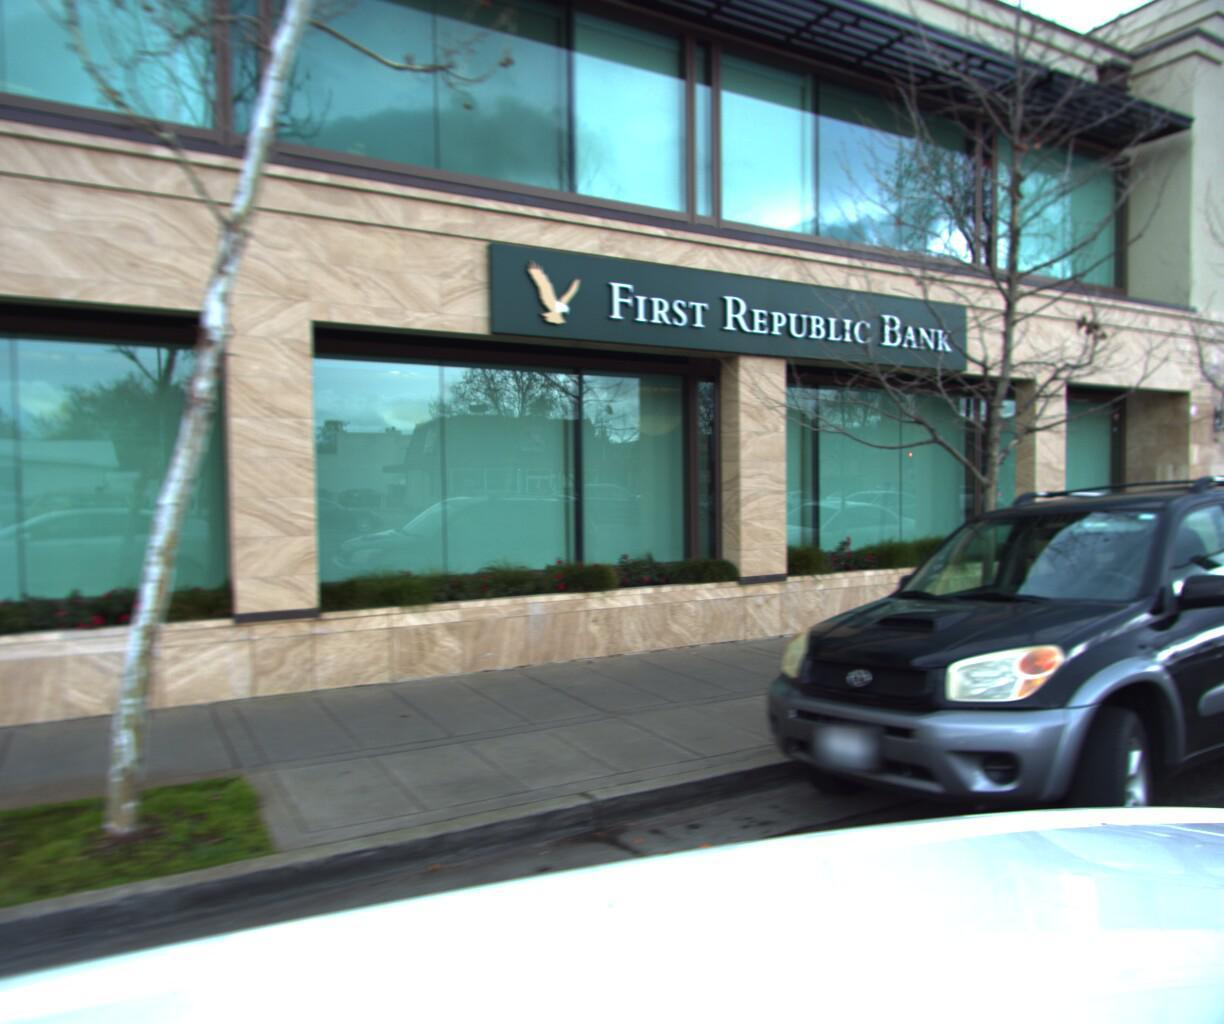car: (714, 461, 1224, 961), (1194, 470, 1224, 539)
